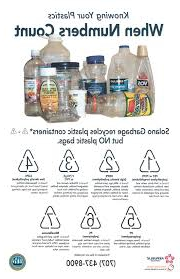plastic water bottle: (132, 43, 162, 120), (18, 46, 47, 118), (85, 92, 158, 119), (82, 49, 107, 120), (37, 64, 63, 121), (109, 58, 133, 119)
